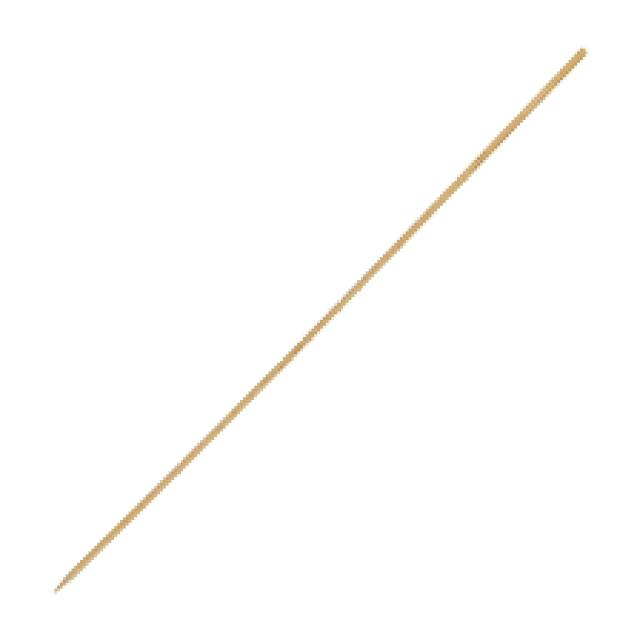stick: (58, 49, 584, 592)
